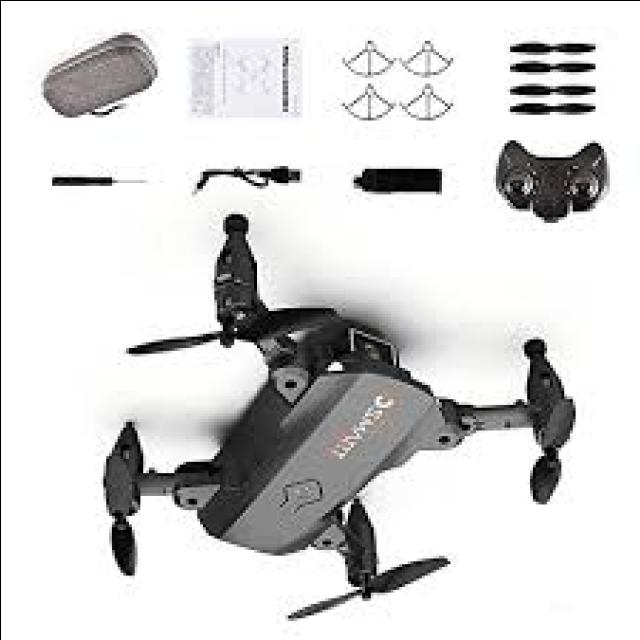drone: (80, 216, 598, 623)
